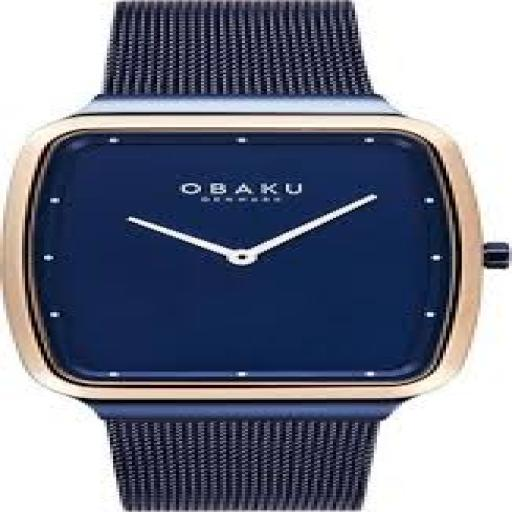KolSaati: (5, 5, 498, 512)
